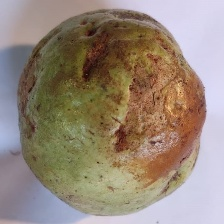guava: (31, 35, 200, 201)
